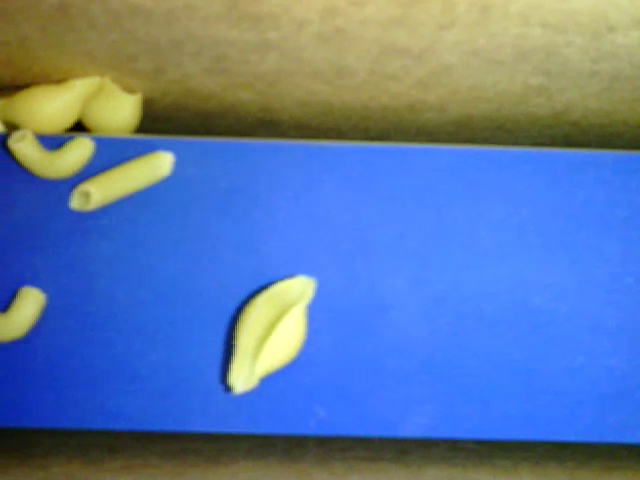elbow: (8, 131, 97, 180), (1, 281, 47, 341)
penne: (69, 149, 174, 207)
shell: (224, 272, 318, 394), (1, 73, 105, 136), (78, 76, 142, 137)
